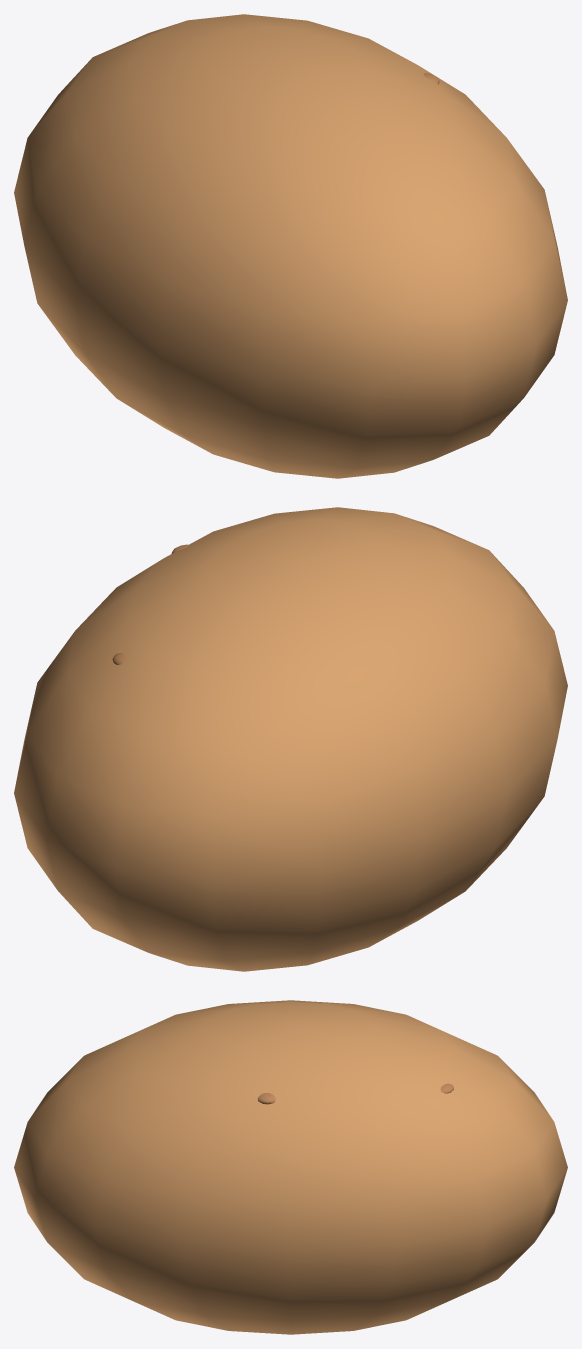
The model's file is potato.glb.
3 renders of one model, top to bottom at view 1: azimuth 30°, elevation 25°; view 2: azimuth 150°, elevation 25°; view 3: azimuth 270°, elevation 25°, orthographic. The views are drawn at different scales.
Visible parts, largest first — view 1: potato; view 2: potato; view 3: potato.
Part boxes in pixels (x1,y1,x2,y2): potato: [14, 14, 567, 478]; potato: [14, 507, 567, 971]; potato: [14, 1000, 567, 1334].
Bounding box in the file's own units: 0.34 × 0.28 × 0.48.
